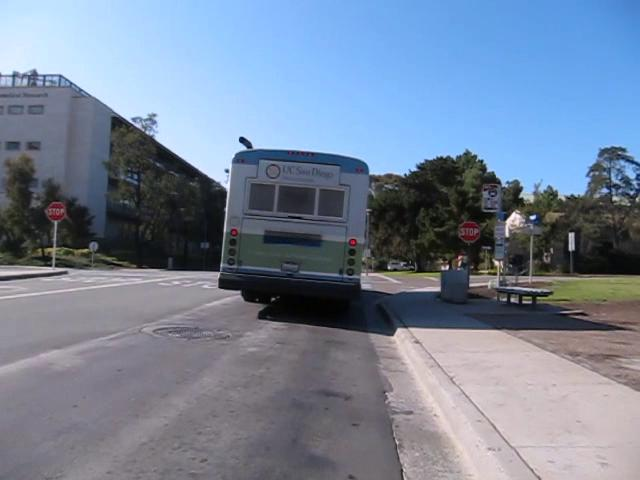stop: (457, 220, 482, 244), (45, 201, 66, 222)
